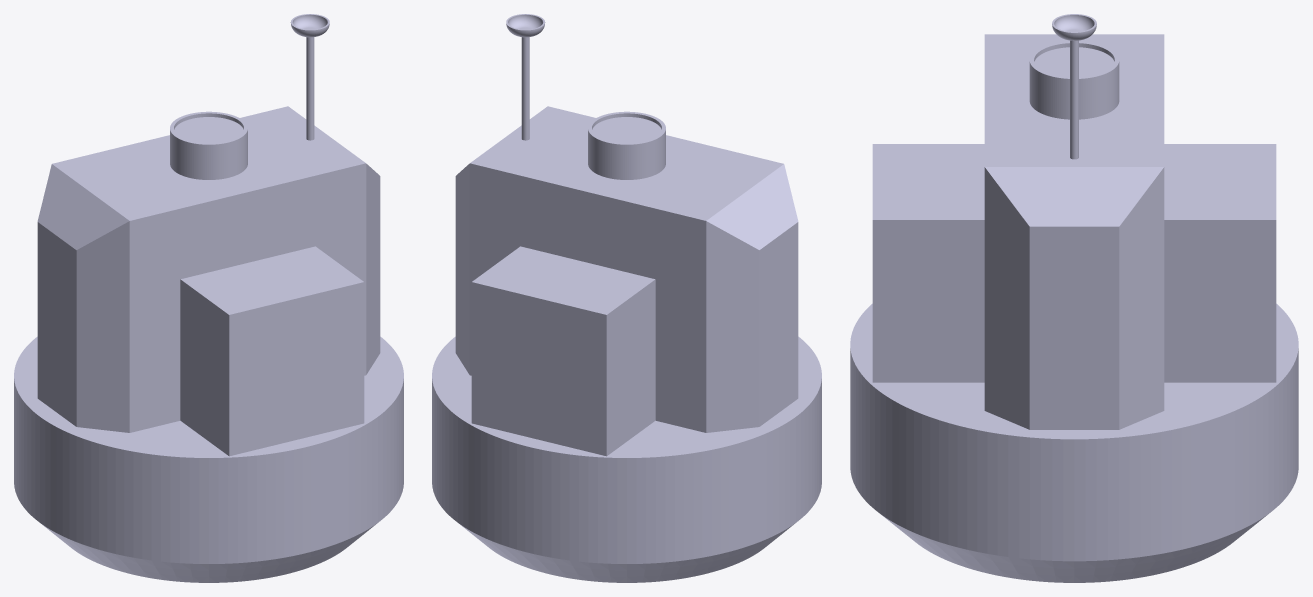
Rendered from MainBody.dae.
3 renders of one model, left to right at view 1: azimuth 30°, elevation 25°; view 2: azimuth 150°, elevation 25°; view 3: azimuth 270°, elevation 25°, orthographic. The views are drawn at different scales.
Parts seen in each view (by area): view 1: node0; view 2: node0; view 3: node0.
Boxes of the visible parts, left/top/right/bottom form: node0: left=14, top=14, right=403, bottom=582; node0: left=432, top=14, right=821, bottom=582; node0: left=850, top=14, right=1298, bottom=582.
Size of the model in its own units: 1 by 0.9997 by 1.33.
